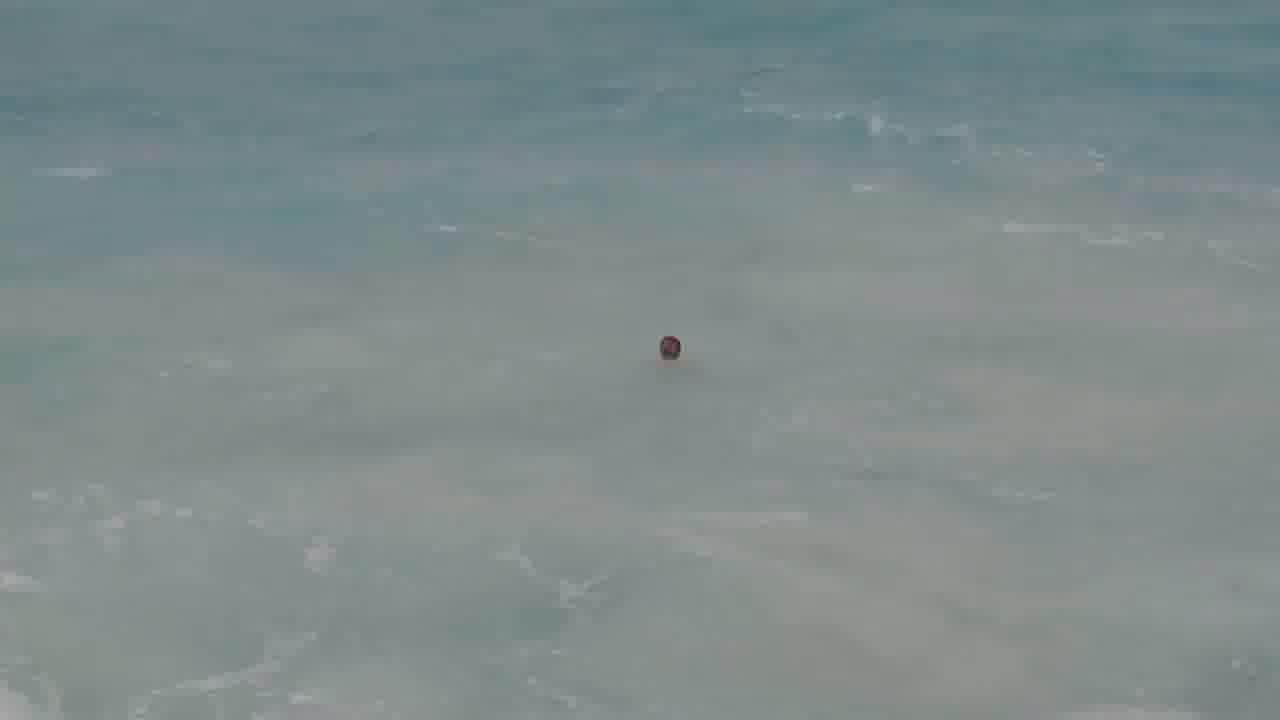human: (651, 324, 703, 371)
